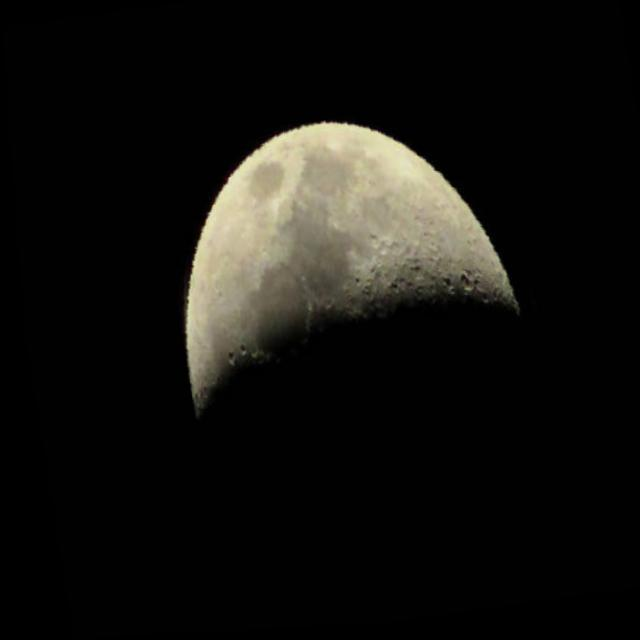moon: (147, 96, 596, 634)
